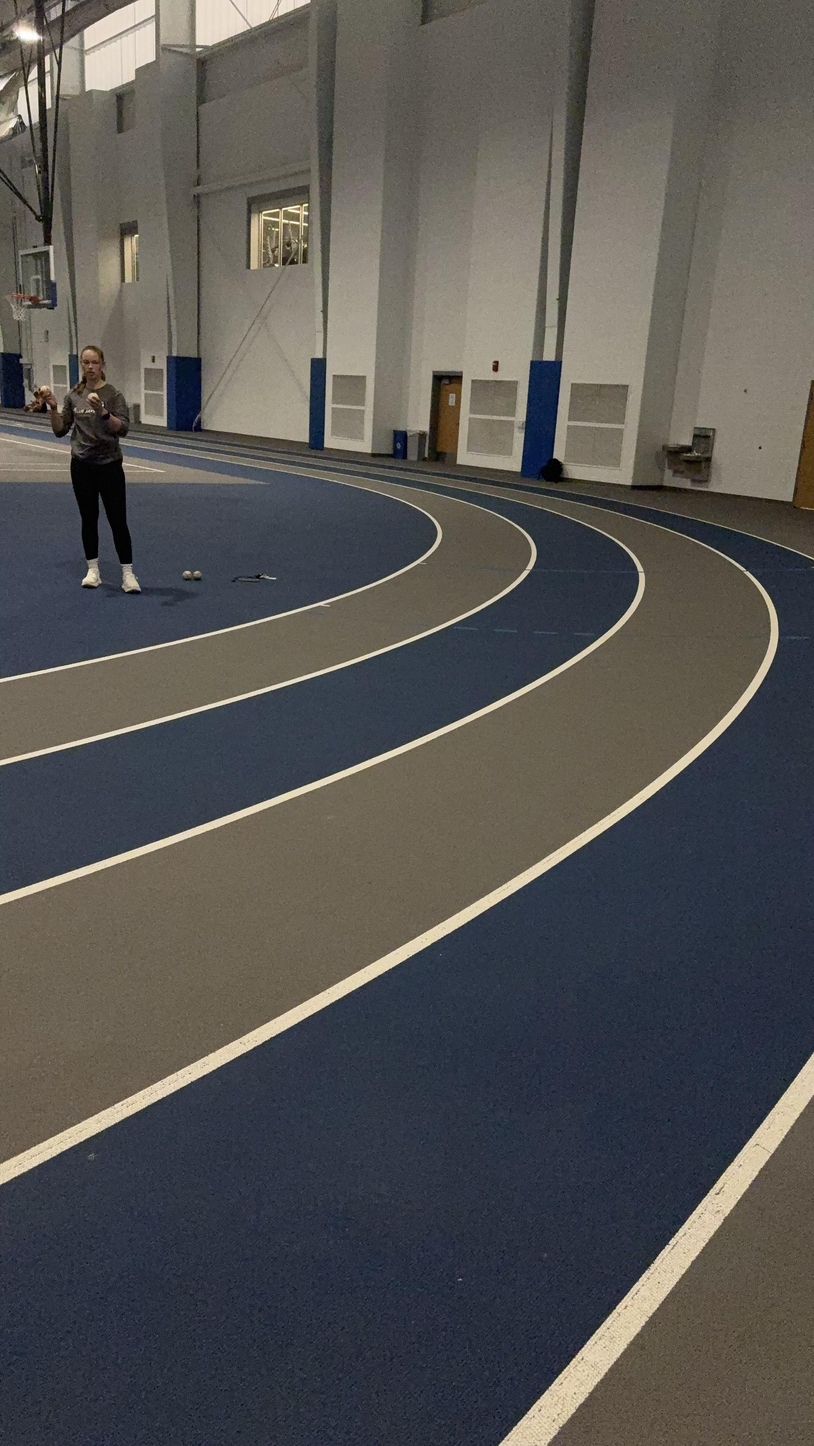Baseball: (179, 568, 194, 583), (37, 384, 53, 395), (193, 569, 202, 580)
